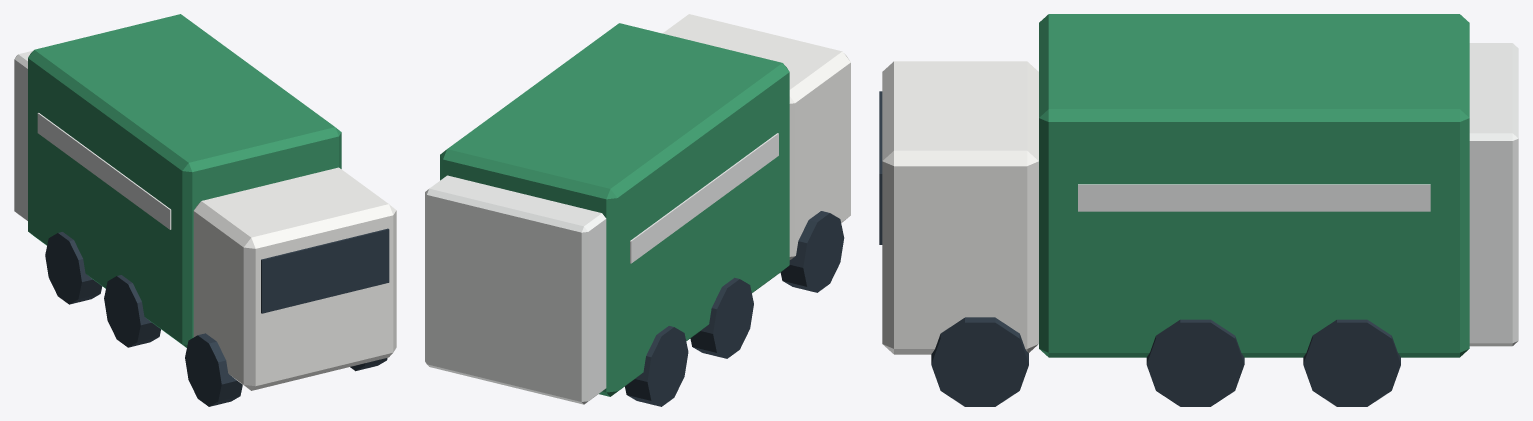
The model's file is compactor.fbx.
The picture shows the model from 3 angles, left to right: view 1: azimuth 30°, elevation 25°; view 2: azimuth 150°, elevation 25°; view 3: azimuth 270°, elevation 25°; orthographic projection. The views are drawn at different scales.
Parts seen in each view (by area): view 1: compactor; view 2: compactor; view 3: compactor.
Boxes of the visible parts, box(x1,y1,x2,y2) form: compactor: box(14, 14, 396, 406); compactor: box(425, 14, 850, 406); compactor: box(879, 14, 1518, 406).
Size of the model in its own units: 2.65 by 3.28 by 6.53.
